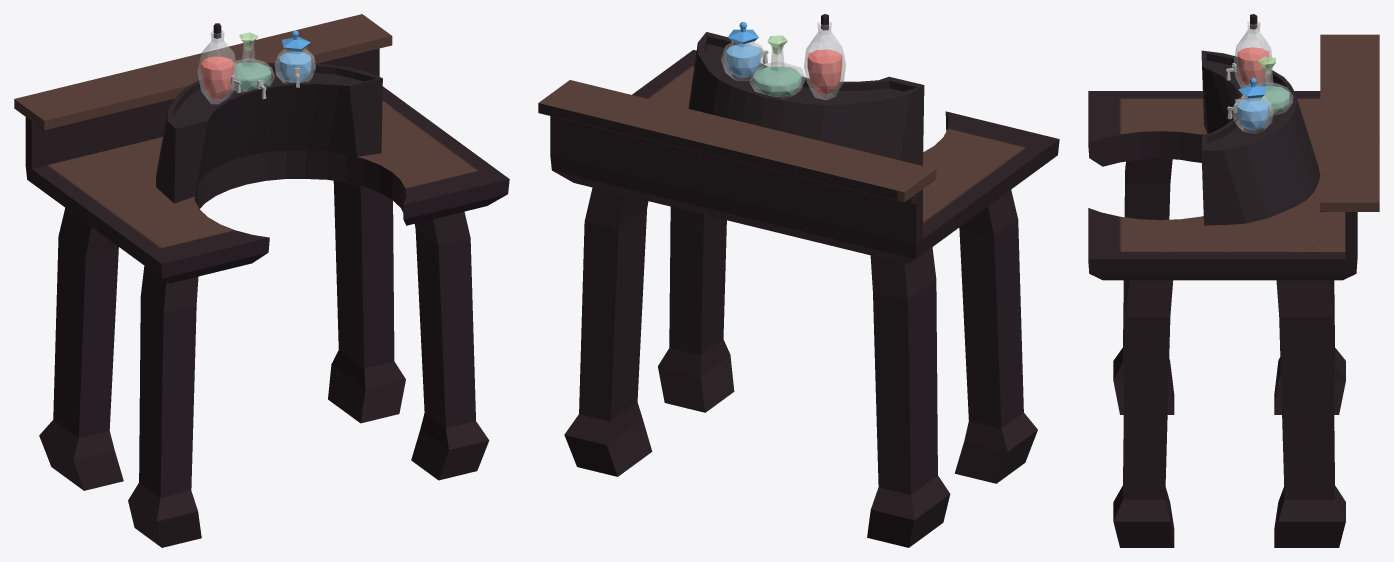
Rendered from RGBStation2.fbx.
3 views of the same model, side by side, from view 1: azimuth 30°, elevation 25°; view 2: azimuth 150°, elevation 25°; view 3: azimuth 270°, elevation 25° (orthographic). The views are drawn at different scales.
Parts seen in each view (by area): view 1: RGBStation, R_Bottle, R_Potion, G_Bottle, B_Bottle, G_Potion, B_Potion; view 2: RGBStation, R_Bottle, G_Bottle, B_Bottle, R_Potion, G_Potion, B_Potion; view 3: RGBStation, R_Bottle, B_Bottle, R_Potion, G_Bottle, B_Potion, G_Potion.
Part boxes in pixels (x1,y1,x2,y2): RGBStation: (14,14,509,547); R_Bottle: (197,30,237,104); R_Potion: (201,56,234,99); G_Bottle: (231,42,274,92); B_Bottle: (274,47,315,83); G_Potion: (232,62,271,91); B_Potion: (279,51,311,82); RGBStation: (538,32,1059,547); R_Bottle: (804,21,845,100); G_Bottle: (749,46,805,98); B_Bottle: (721,41,766,80); R_Potion: (807,49,842,94); G_Potion: (753,66,801,96); B_Potion: (726,44,760,77); RGBStation: (1088,34,1379,547); R_Bottle: (1234,21,1271,87); B_Bottle: (1232,94,1273,133); R_Potion: (1237,47,1269,85); G_Bottle: (1245,66,1293,115); B_Potion: (1237,98,1268,130); G_Potion: (1246,85,1289,114).
Bounding box in the file's own units: 9413 × 11484 × 6902.
